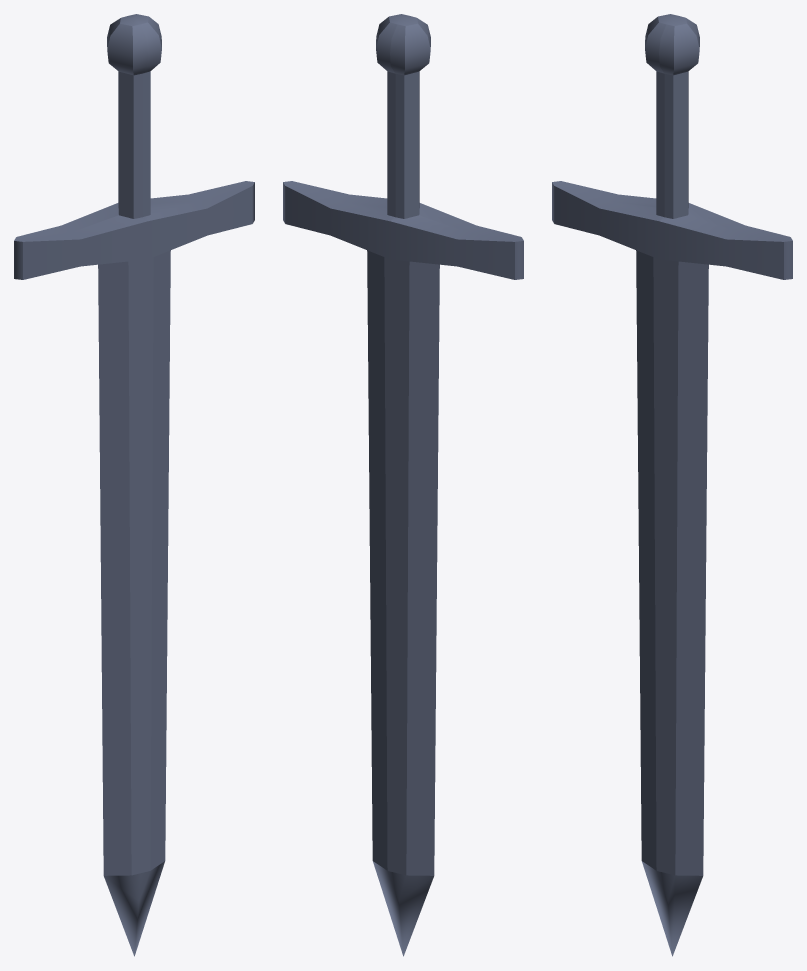
Rendered from espada.fbx.
The picture shows the model from 3 angles, left to right: view 1: azimuth 30°, elevation 25°; view 2: azimuth 150°, elevation 25°; view 3: azimuth 330°, elevation 25°; orthographic projection.
Visible parts, largest first — view 1: Espada1; view 2: Espada1; view 3: Espada1.
Boxes of the visible parts, x1,y1,x2,y2 form: Espada1: (14, 14, 254, 956); Espada1: (283, 14, 523, 956); Espada1: (552, 14, 792, 956).
Bounding box in the file's own units: 0.2889 × 1.08 × 0.0559.
